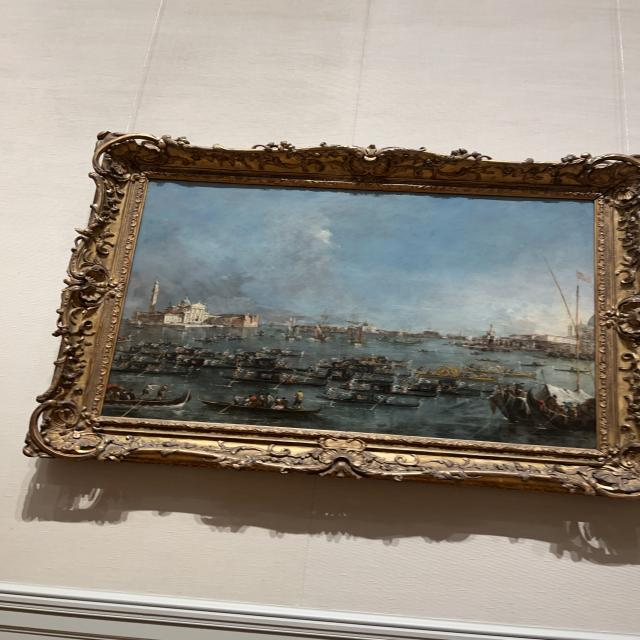ships: (107, 188, 593, 442)
